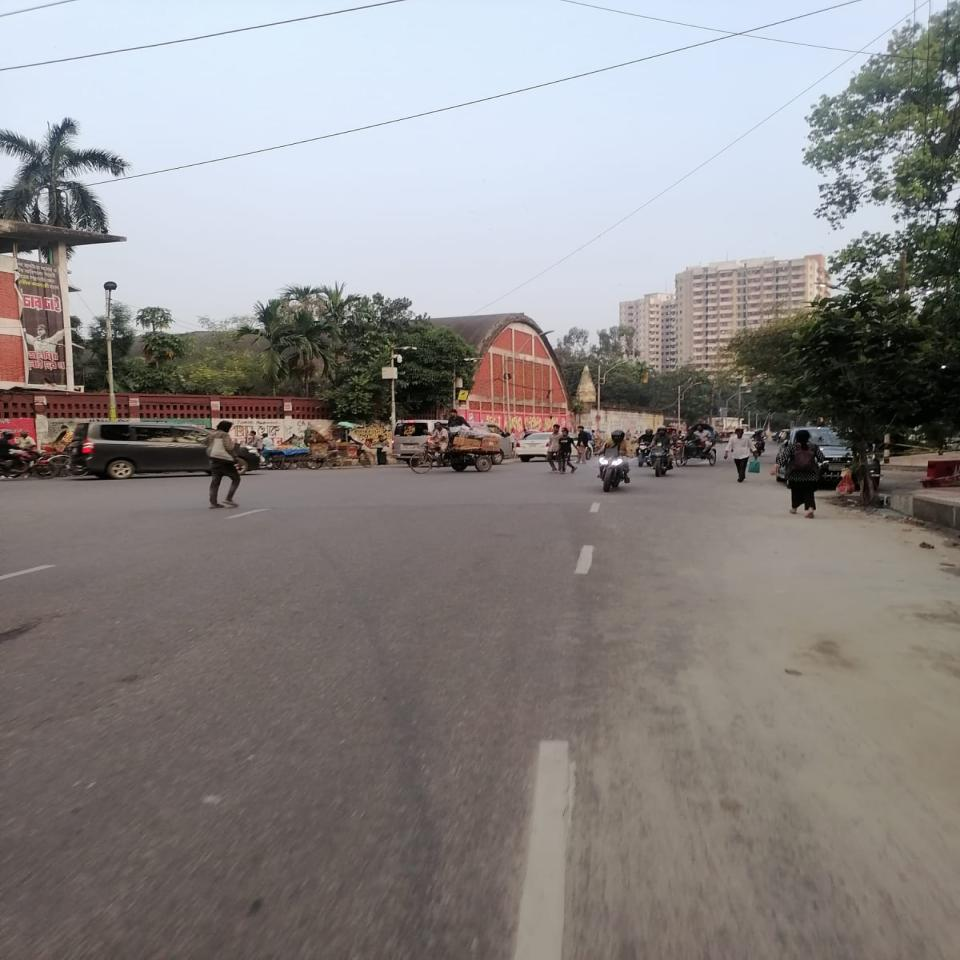person: (206, 420, 244, 508)
